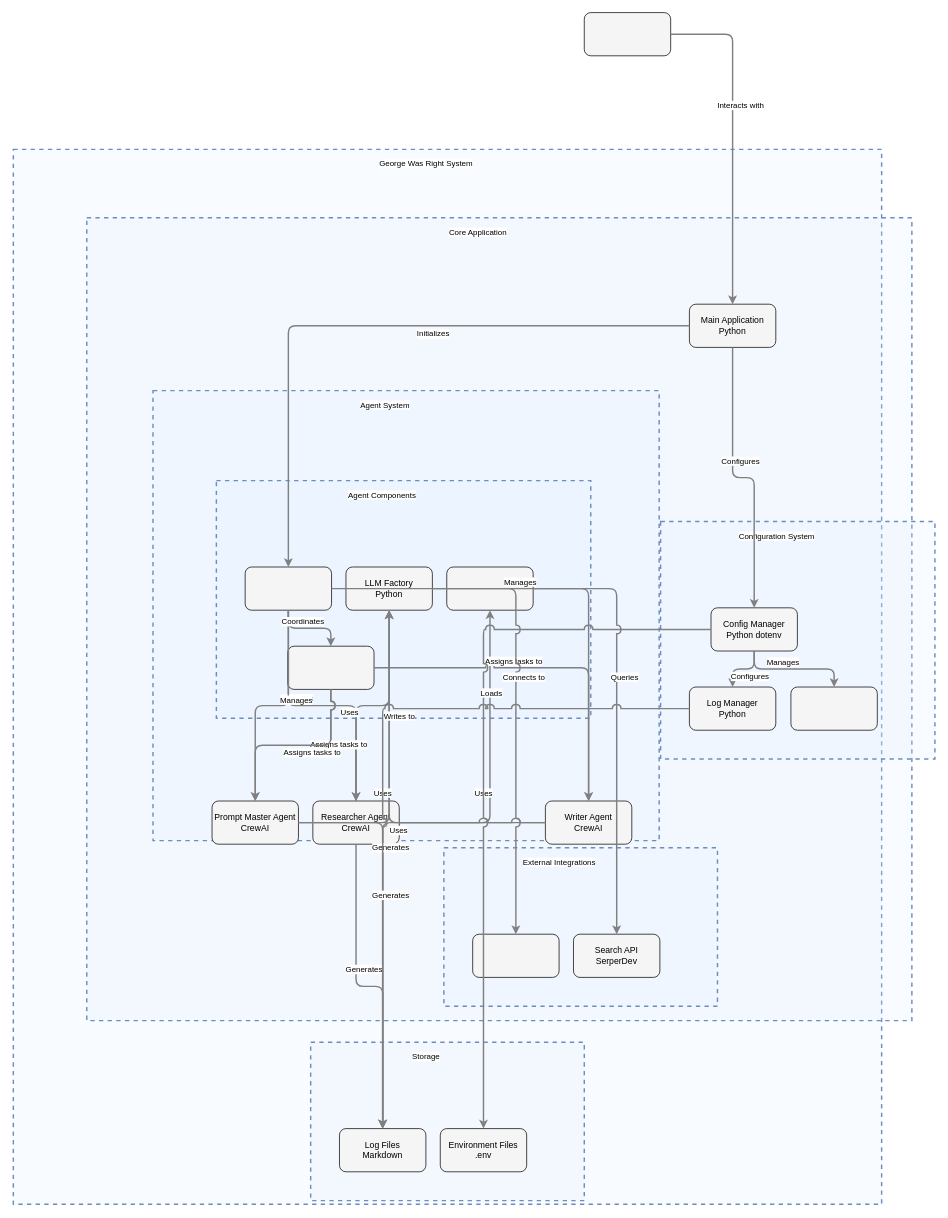
The diagram is 948 pixels wide and 1218 high, and some of its shapes have lost their labels. Here are the shapes that lost their labels. From the top down, the centre of each, then its label:
pixel 627 34: User
pixel 288 588: Crew Manager CrewAI
pixel 489 588: Search Tool SerperDevTool
pixel 330 667: Task Manager CrewAI
pixel 833 708: Environment Manager Python
pixel 515 955: LLM Service Various Providers
